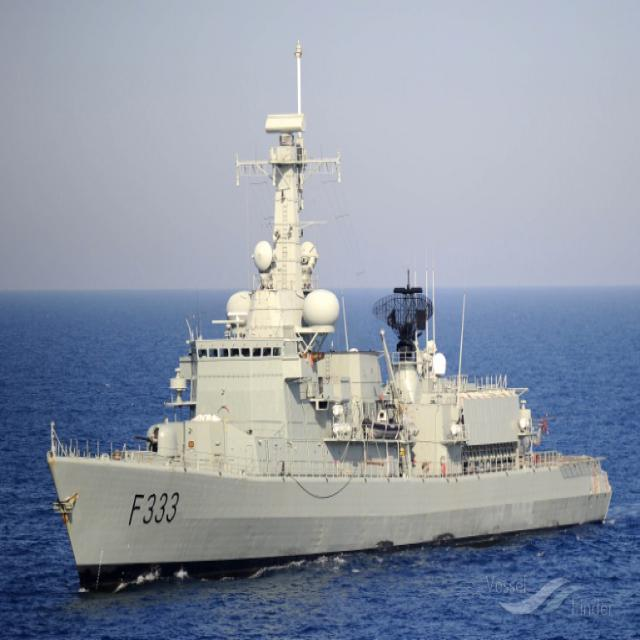OCR: (121, 490, 182, 542)
